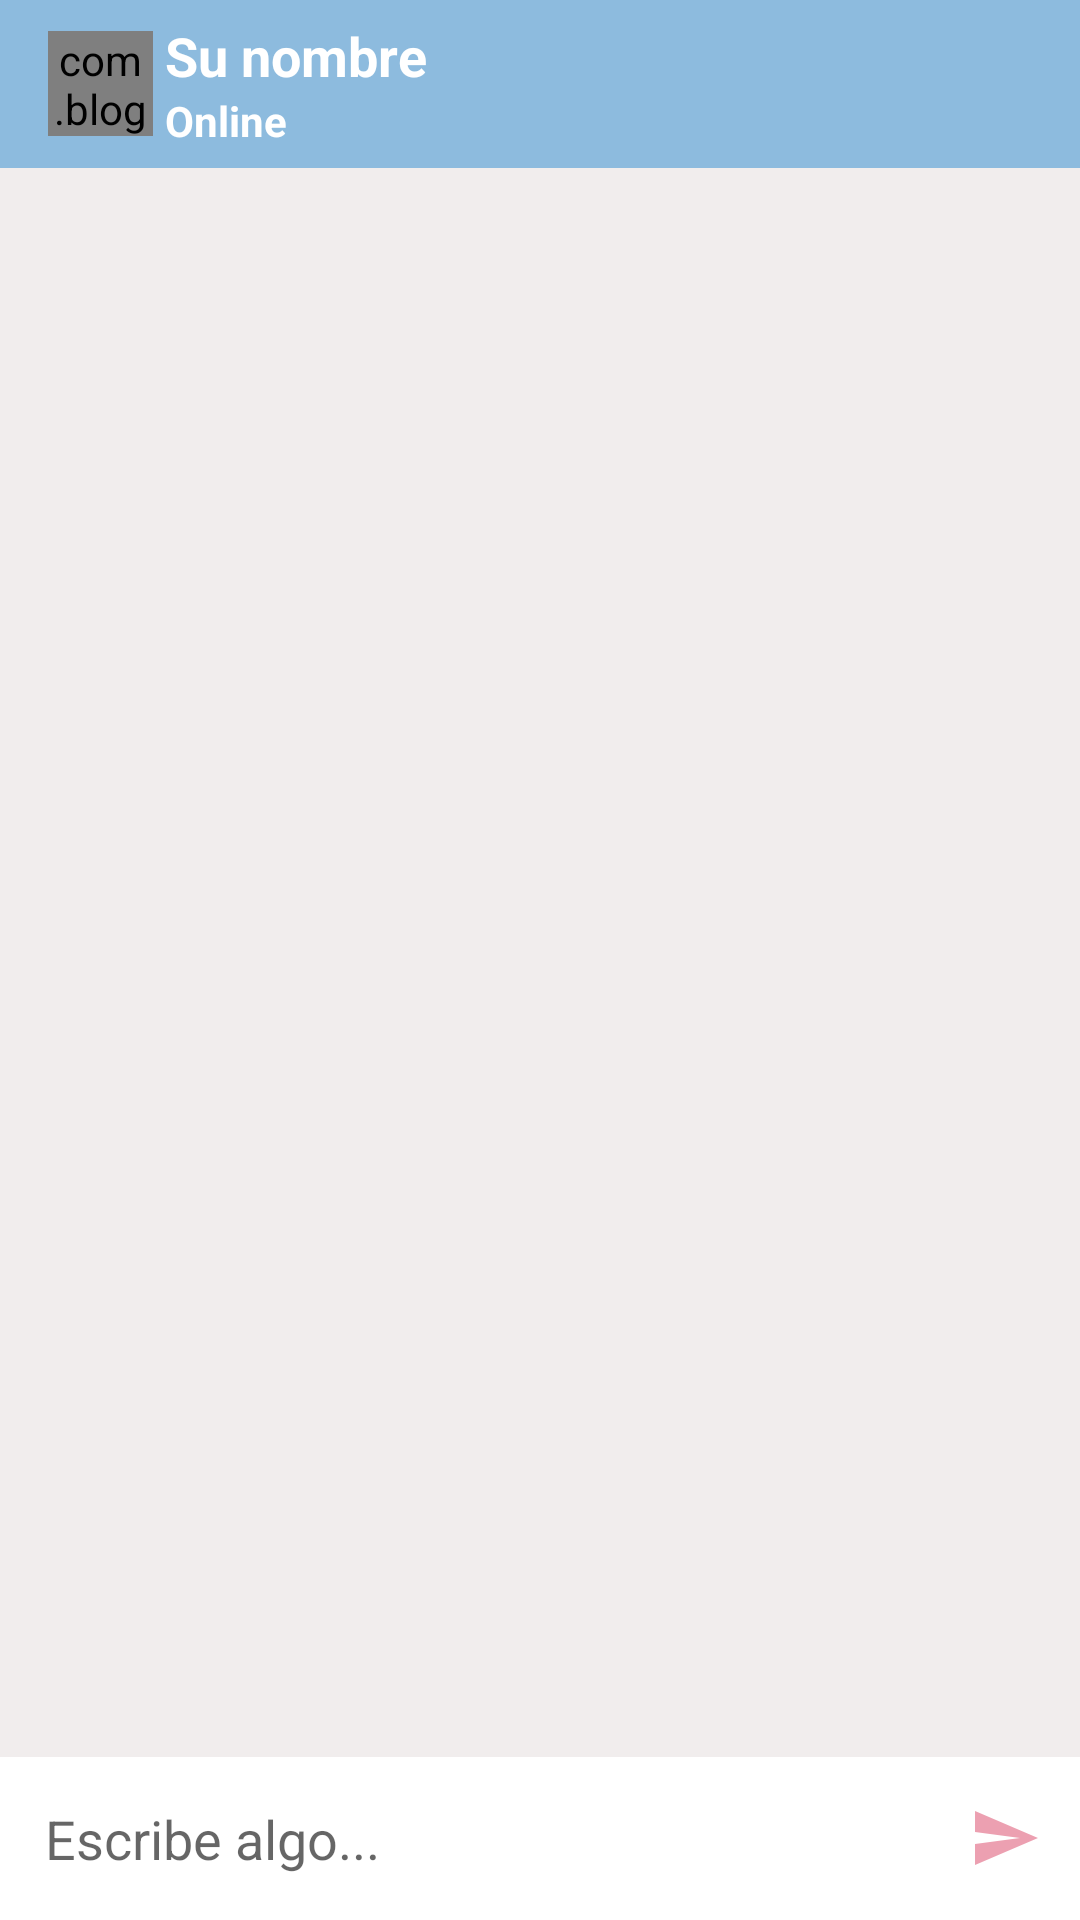

Screen size 1080px x 1920px. Icon name, then its center in pixels as point (x, y):
enviar: point (1006, 1838)
